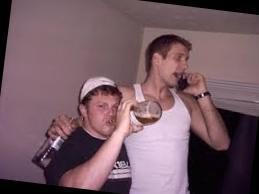Drunk: (89, 91, 117, 137), (164, 41, 189, 88)
